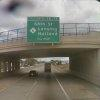Bridge: (4, 27, 94, 58)
